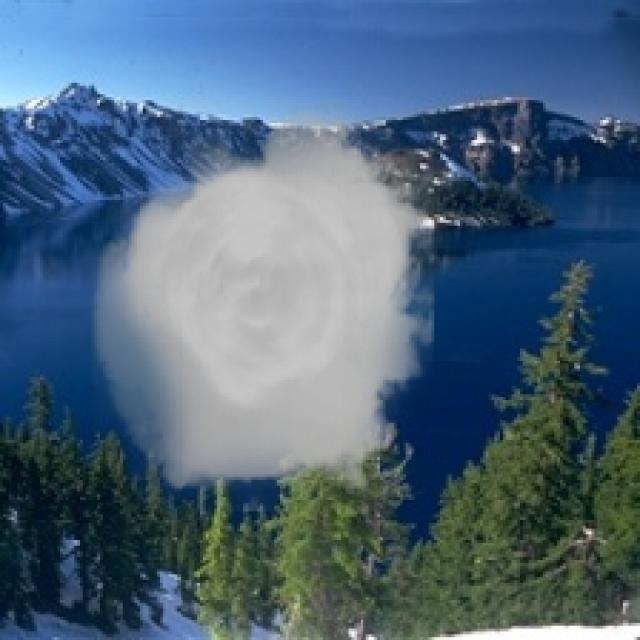smoke: (92, 97, 434, 512)
